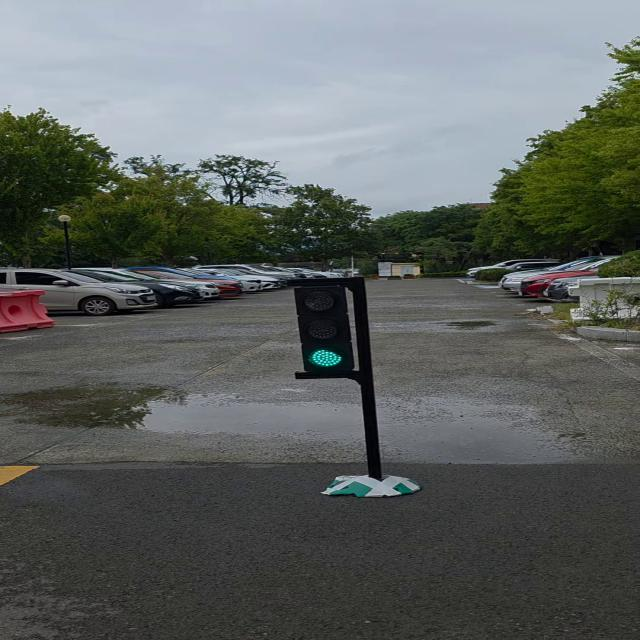green: (294, 280, 371, 376)
